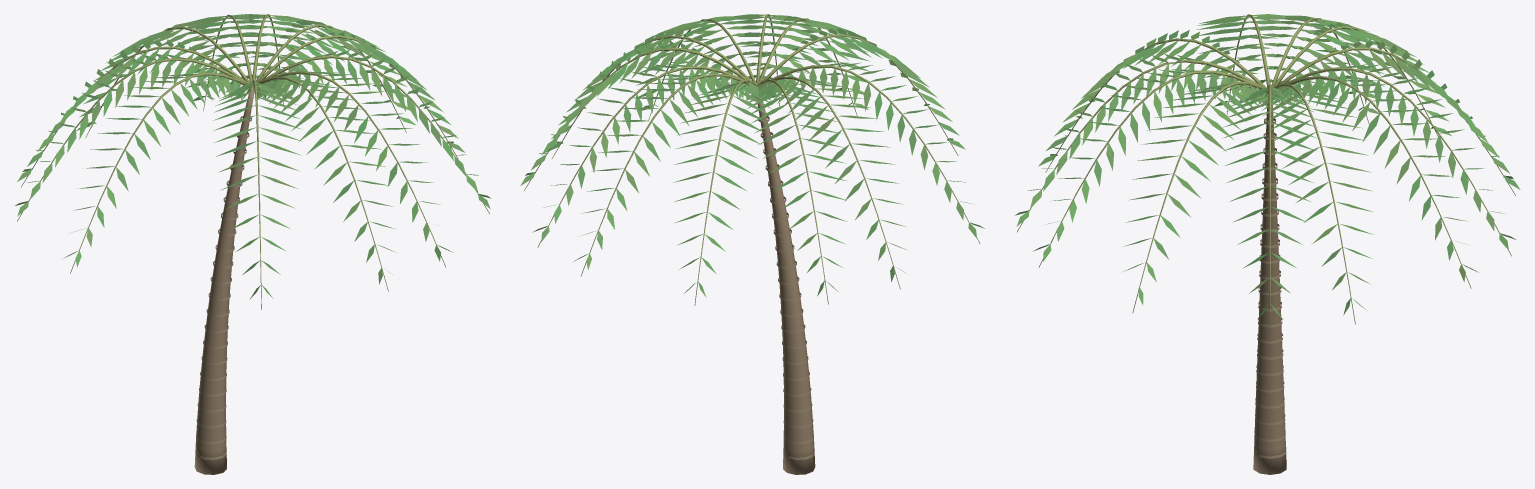
Rendered from coastal-palm.glb.
3 renders of one model, left to right at view 1: azimuth 30°, elevation 25°; view 2: azimuth 150°, elevation 25°; view 3: azimuth 270°, elevation 25°, orthographic. The views are drawn at different scales.
Parts seen in each view (by area): view 1: coastal-palm_Fronds, coastal-palm_Wood; view 2: coastal-palm_Fronds, coastal-palm_Wood; view 3: coastal-palm_Fronds, coastal-palm_Wood.
Boxes of the visible parts, box(x1,y1,x2,y2) form: coastal-palm_Fronds: box(15, 14, 491, 299); coastal-palm_Wood: box(17, 14, 489, 474); coastal-palm_Fronds: box(520, 14, 984, 297); coastal-palm_Wood: box(524, 14, 980, 474); coastal-palm_Fronds: box(1015, 14, 1520, 319); coastal-palm_Wood: box(1017, 14, 1515, 474).
Bounding box in the file's own units: 6.42 × 6.01 × 6.38.
